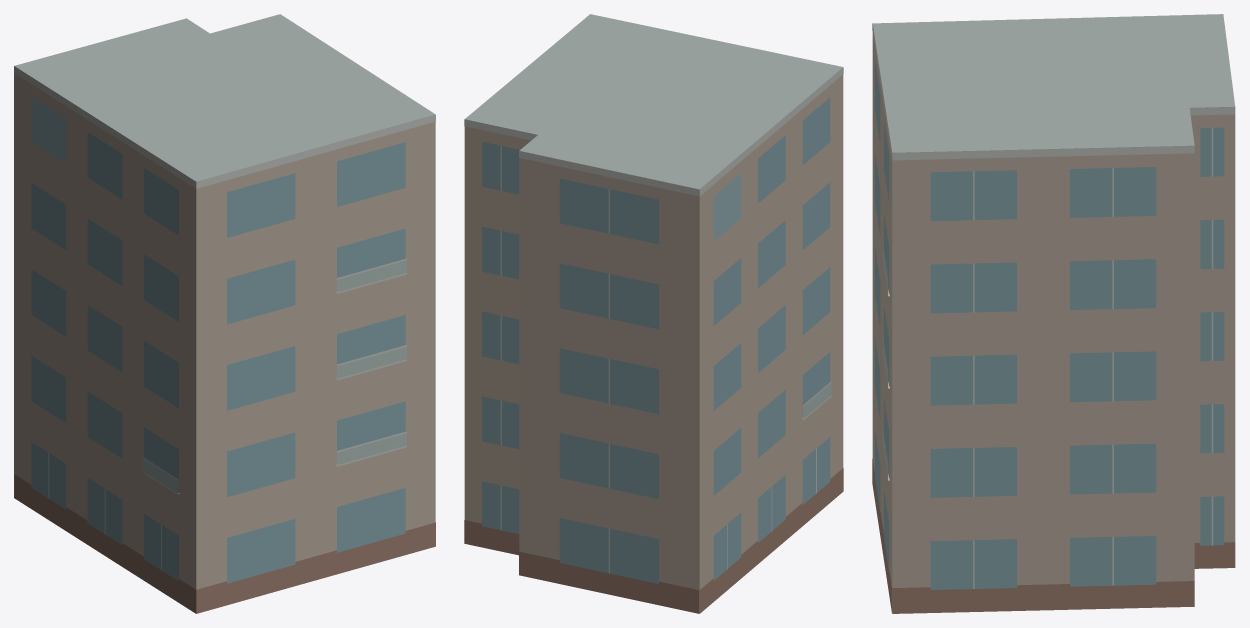
File: survey-upis-32696753.glb
The picture shows the model from 3 angles, left to right: view 1: azimuth 30°, elevation 25°; view 2: azimuth 150°, elevation 25°; view 3: azimuth 270°, elevation 25°; orthographic projection. The views are drawn at different scales.
Visible parts, largest first — view 1: survey-upis-32696753.tmp; view 2: survey-upis-32696753.tmp; view 3: survey-upis-32696753.tmp.
Boxes of the visible parts, x1,y1,x2,y2 form: survey-upis-32696753.tmp: (14,14,435,613); survey-upis-32696753.tmp: (464,14,843,613); survey-upis-32696753.tmp: (872,14,1235,613).
Size of the model in its own units: 9.5 by 14.7 by 10.49.
